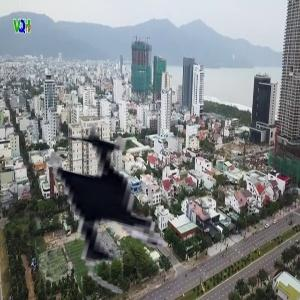drone: (9, 97, 213, 300)
